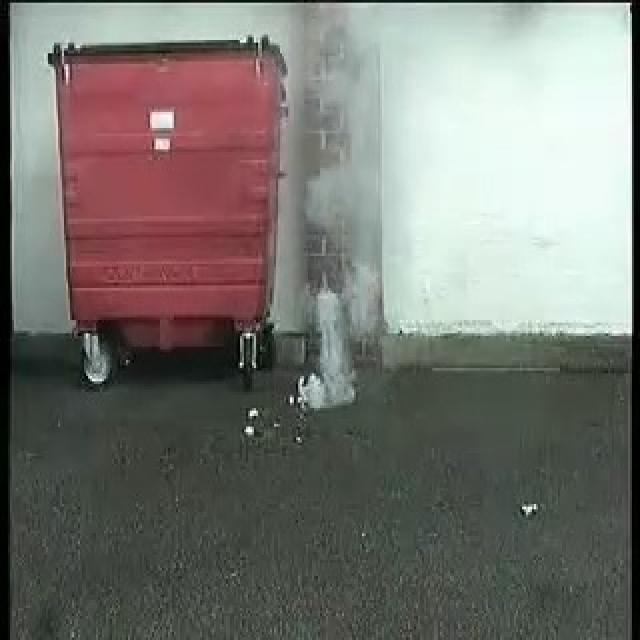smoke: (283, 124, 383, 421)
